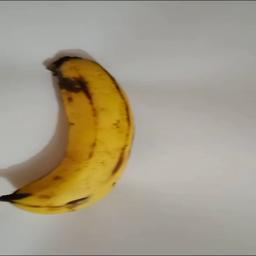Banana Semifresh: (0, 52, 137, 217)
